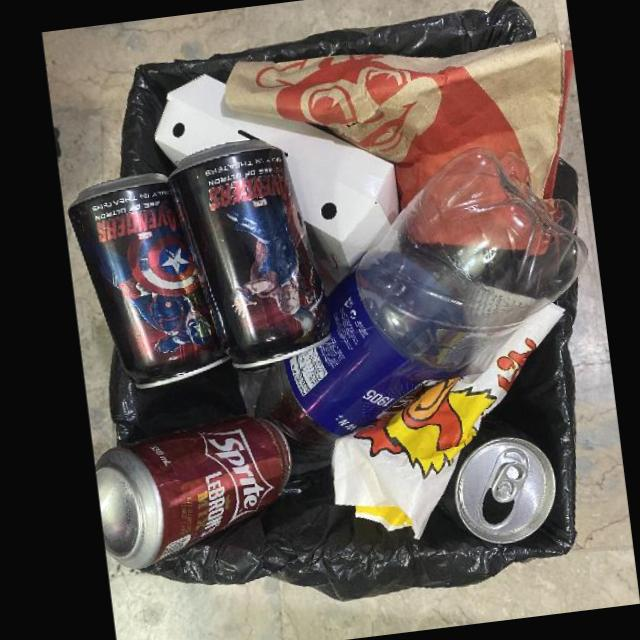carton: (154, 74, 400, 287)
giay: (224, 31, 572, 254)
nhom: (168, 139, 330, 368), (67, 173, 229, 388), (95, 414, 291, 569), (454, 437, 555, 543)
